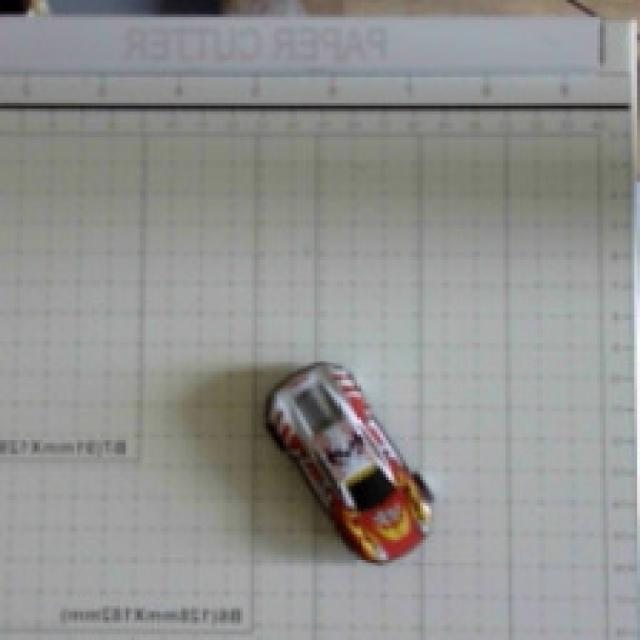Red Car: (200, 318, 497, 594)
